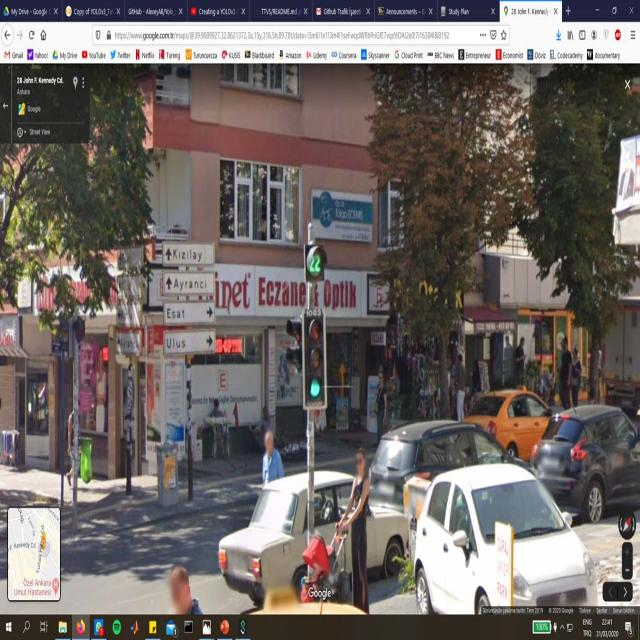yesil: (304, 308, 327, 406)
